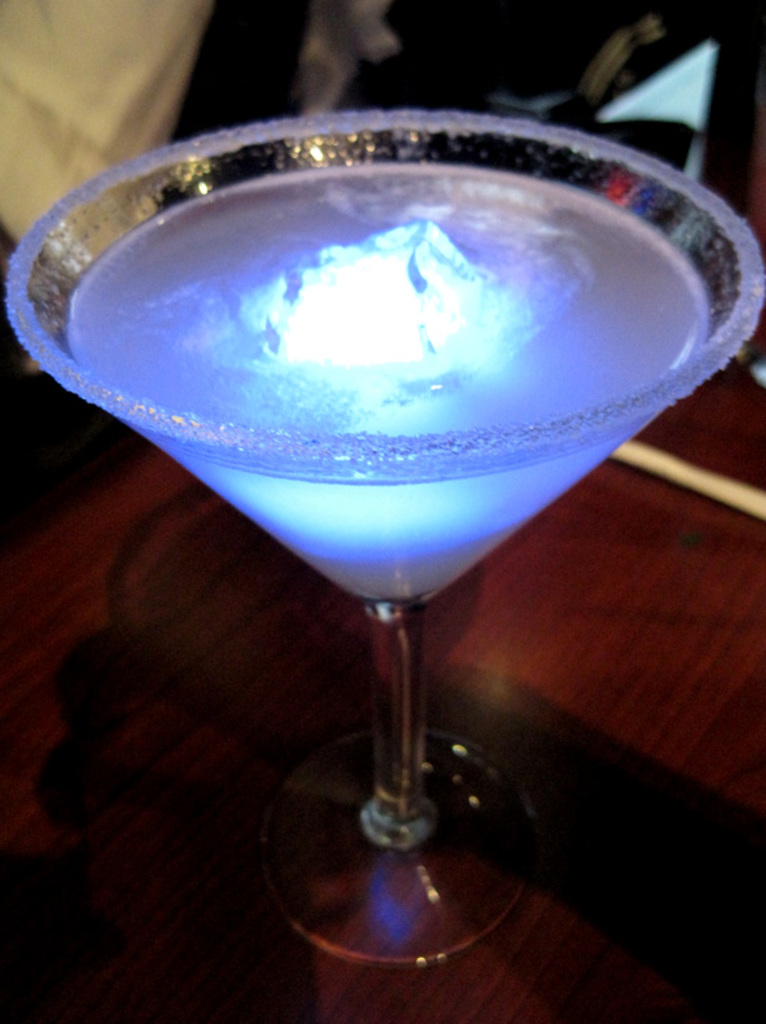person: (0, 0, 406, 268)
